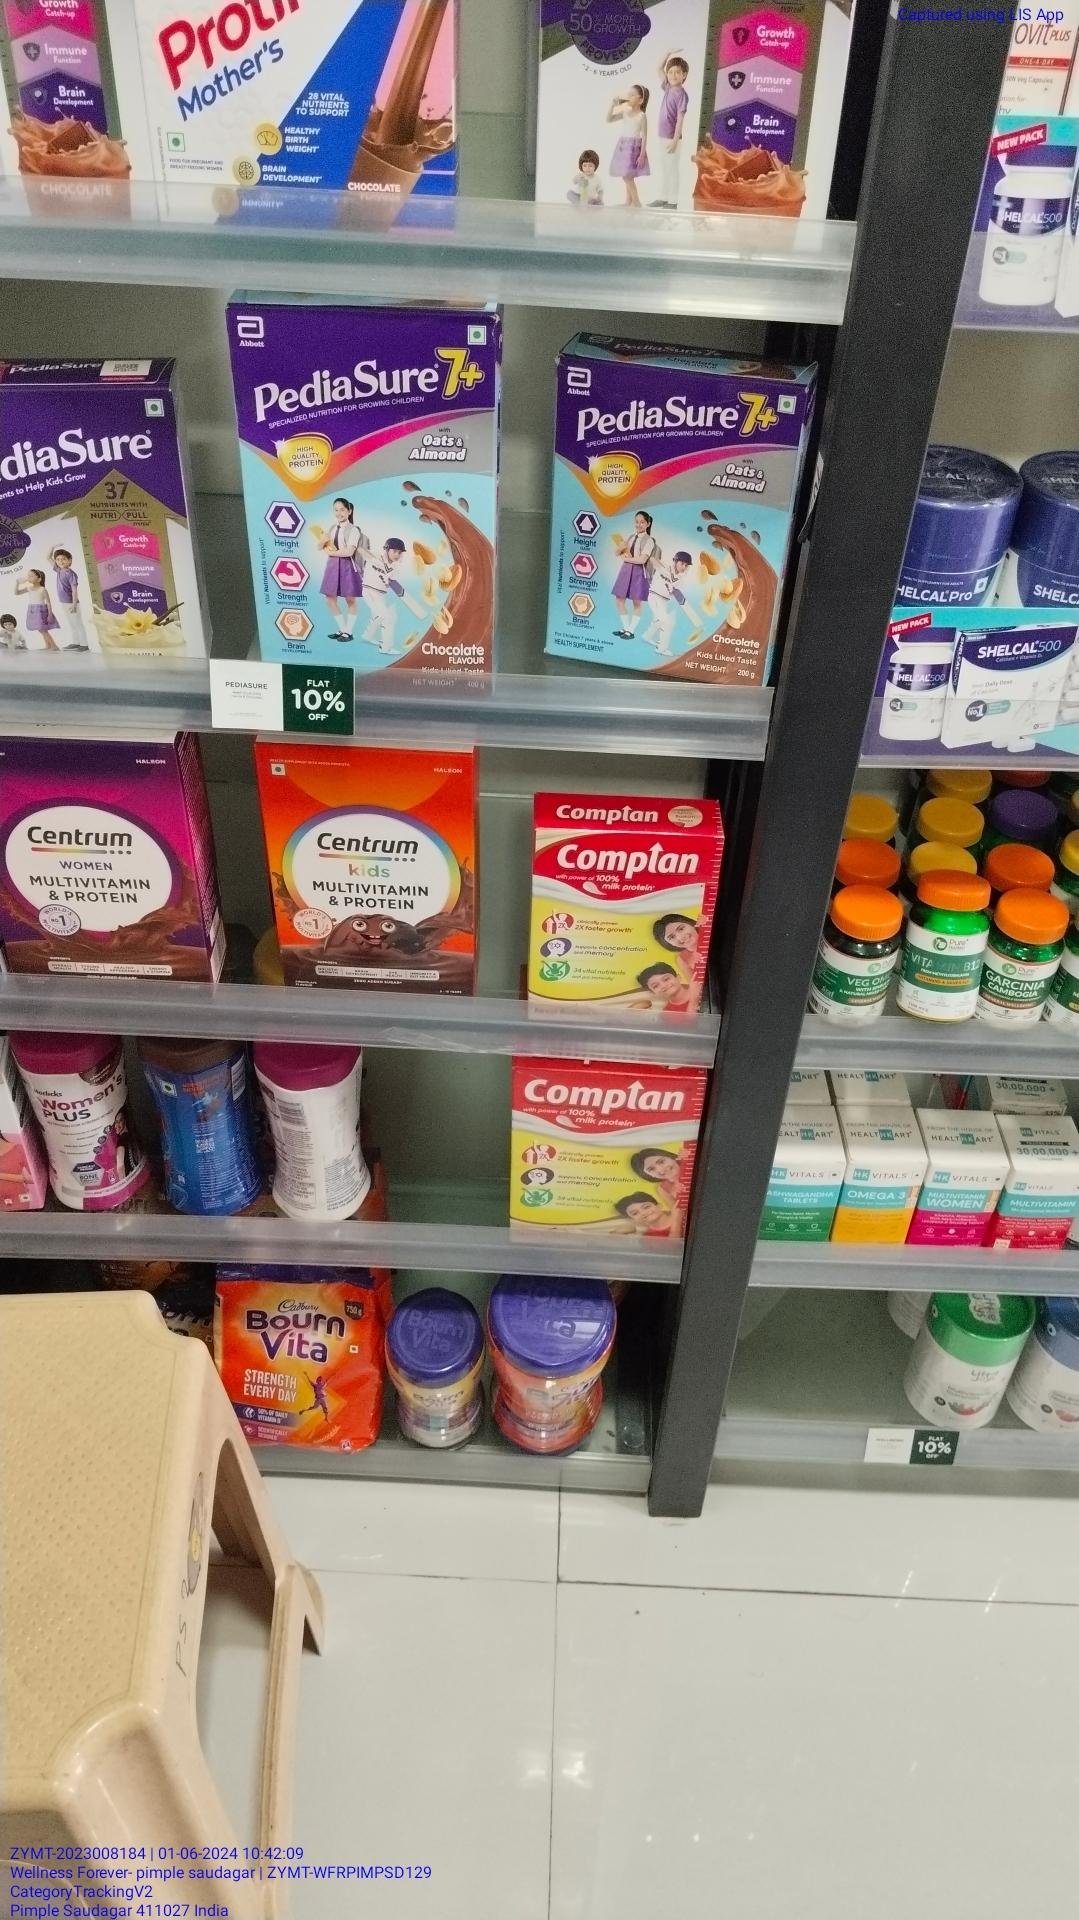BOURN_VITA_750_G_POUCH: (220, 1280, 372, 1443)
COMPLAN_KESAR_BADAM_200_GMS_PACK: (534, 828, 703, 1023)
COMPLAN_KESAR_BADAM_500_GMS_PACK: (513, 1072, 689, 1259)
PEDIASURE_7_PLUS_CHOCOLATE_400_G_PACK: (555, 364, 768, 686)
PEDIASURE_VANILLA_500_G_PACK: (0, 384, 187, 658)
